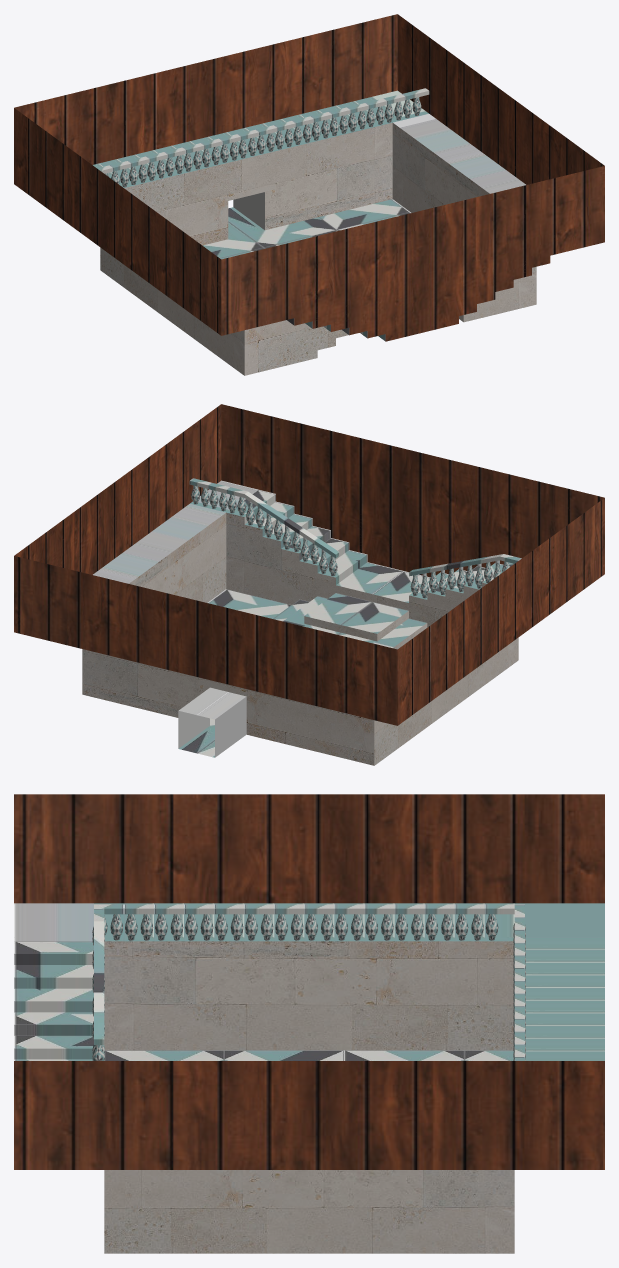
Rendered from CenterStairsModel.dae.
3 views of the same model, one above another, from view 1: azimuth 30°, elevation 25°; view 2: azimuth 150°, elevation 25°; view 3: azimuth 270°, elevation 25° (orthographic). The views are drawn at different scales.
Parts seen in each view (by area): view 1: Plane.001; view 2: Plane.001; view 3: Plane.001.
Boxes of the visible parts, left/top/right/bottom form: Plane.001: left=14, top=14, right=604, bottom=375; Plane.001: left=14, top=404, right=604, bottom=765; Plane.001: left=14, top=794, right=604, bottom=1253.
Bounding box in the file's own units: 10.5 × 9.83 × 4.
